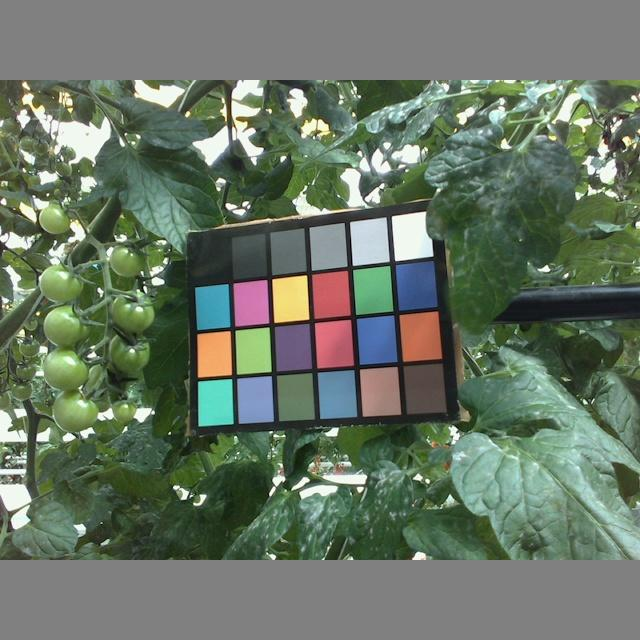green: (43, 305, 93, 350), (41, 347, 91, 392), (50, 389, 98, 432), (109, 288, 155, 330), (39, 264, 87, 302), (109, 241, 148, 279), (39, 202, 73, 234), (111, 395, 135, 423)
